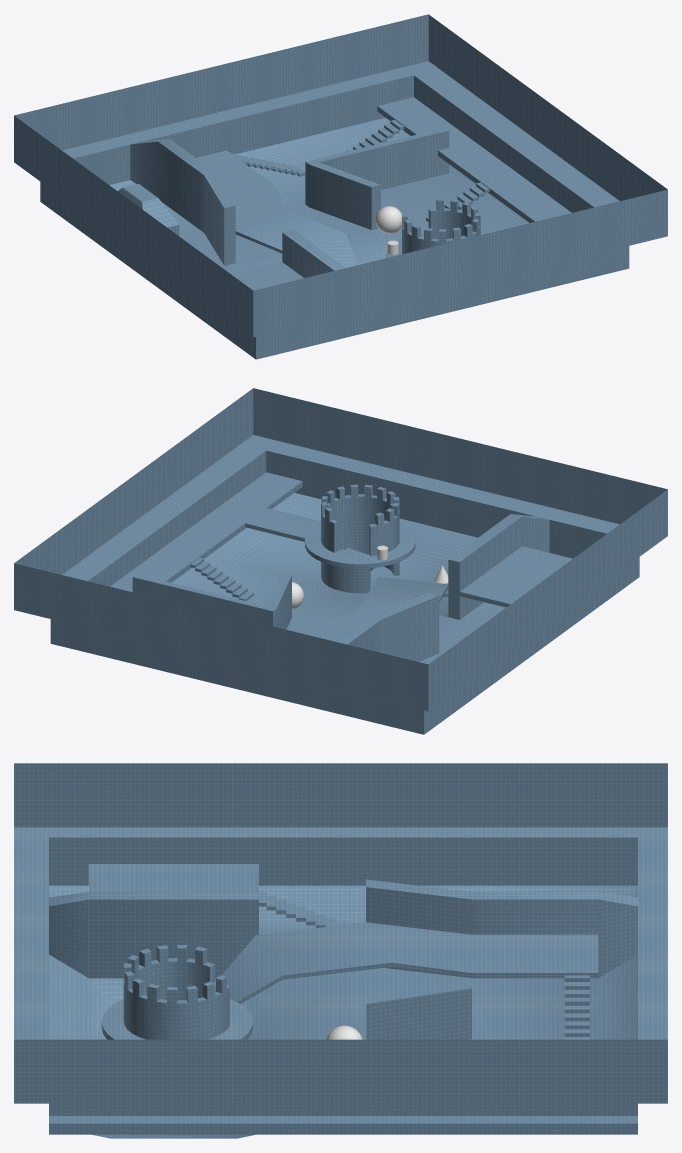
The picture shows the model from 3 angles, top to bottom: view 1: azimuth 30°, elevation 25°; view 2: azimuth 150°, elevation 25°; view 3: azimuth 270°, elevation 25°; orthographic projection. The views are drawn at different scales.
Visible parts, largest first — view 1: Cube.004, interactive_Sphere; view 2: Cube.004; view 3: Cube.004.
Boxes of the visible parts, x1,y1,x2,y2 form: Cube.004: [14, 14, 667, 359]; interactive_Sphere: [375, 206, 401, 233]; Cube.004: [14, 388, 667, 734]; Cube.004: [14, 763, 667, 1138].
Size of the model in its own units: 34.36 by 8.6 by 34.36.
Materials: 1 (1 with a texture image).
